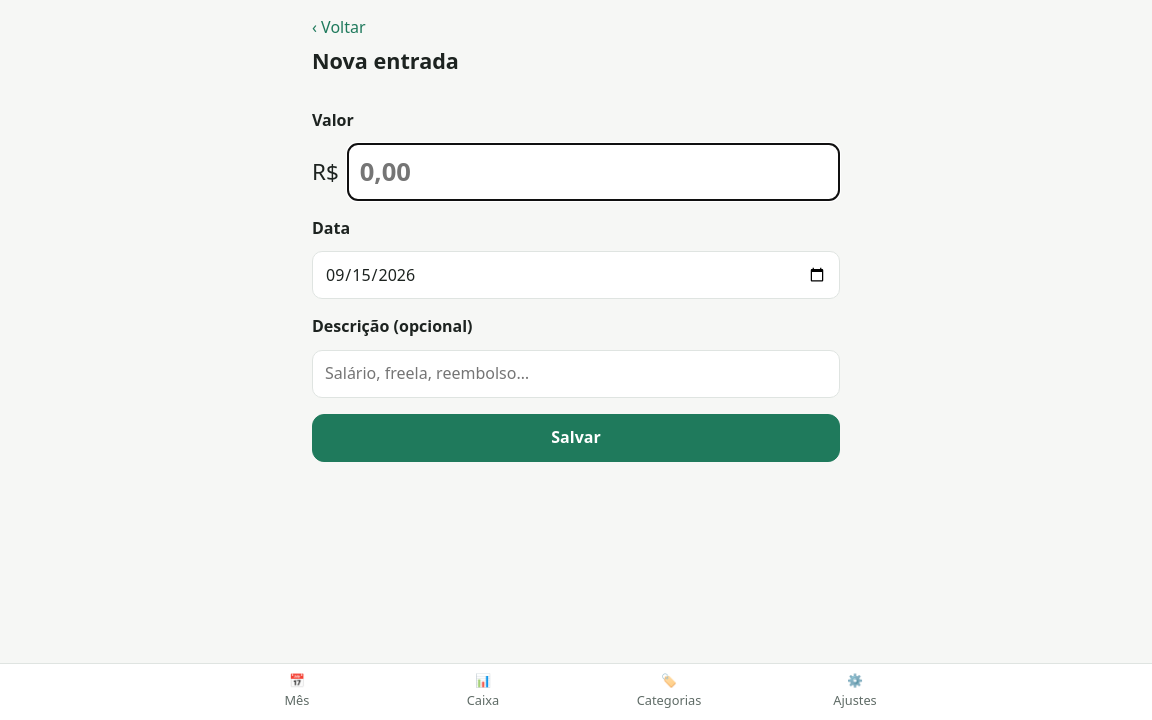
Test: entrada › valida o valor
Step 1. Click the button "Salvar" → [576, 438], box [312,414,840,462]
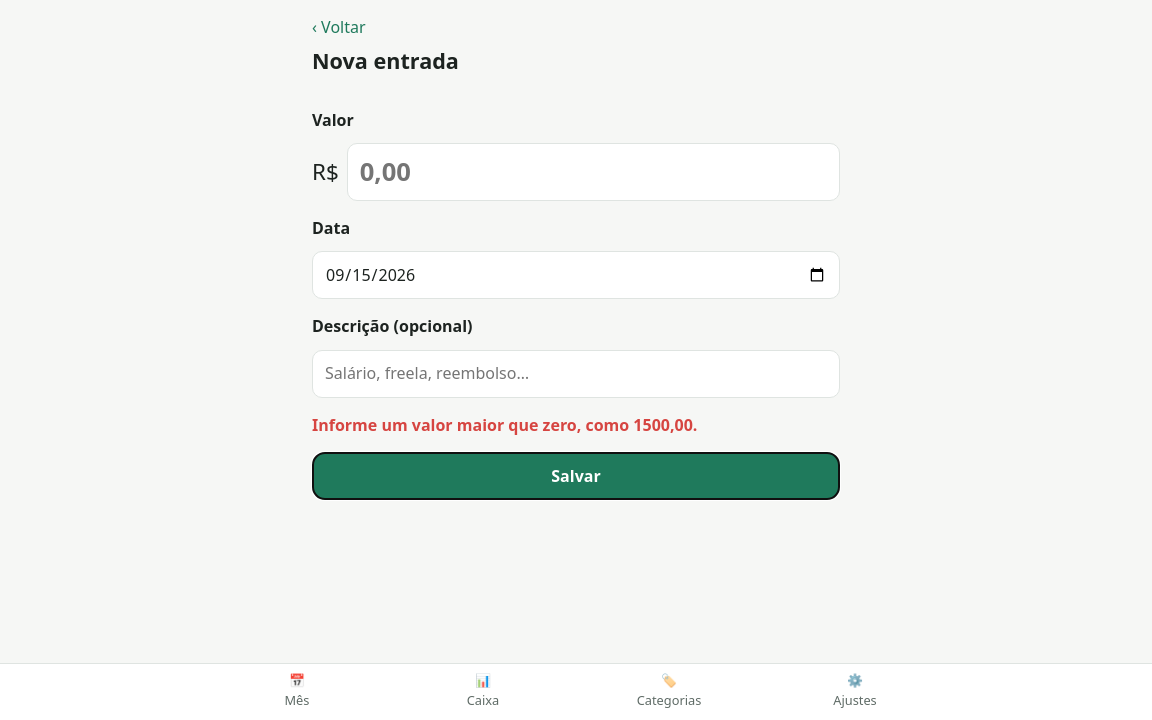
Expected: the message shows "Informe um valor", [312,414,697,436]
